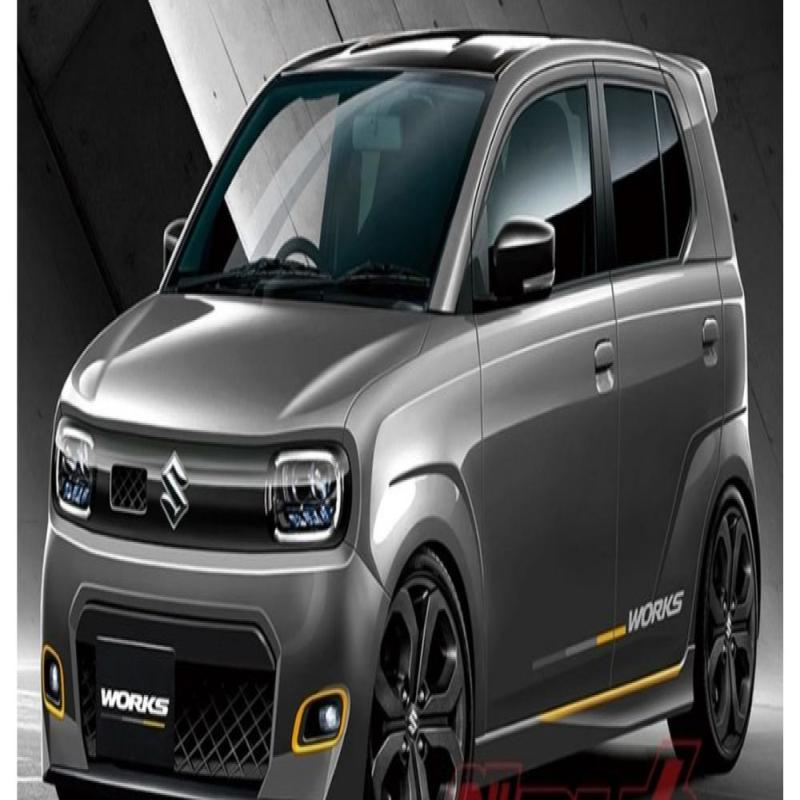car: (42, 36, 780, 800)
